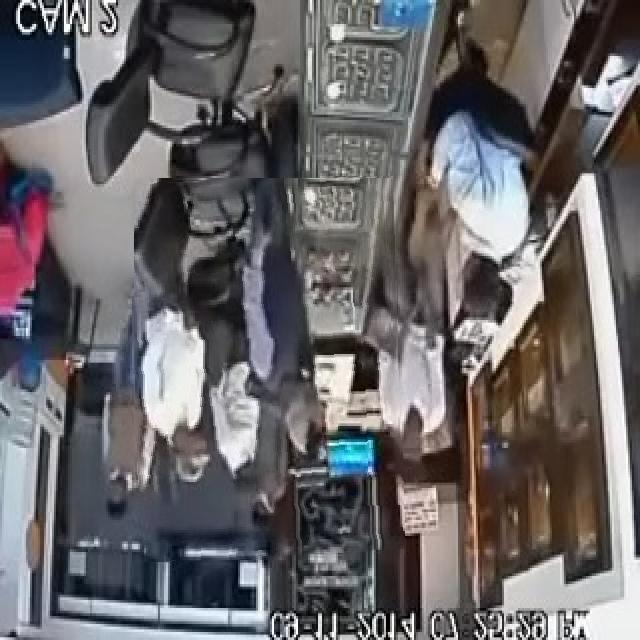Shoplifting: (134, 178, 404, 560)
